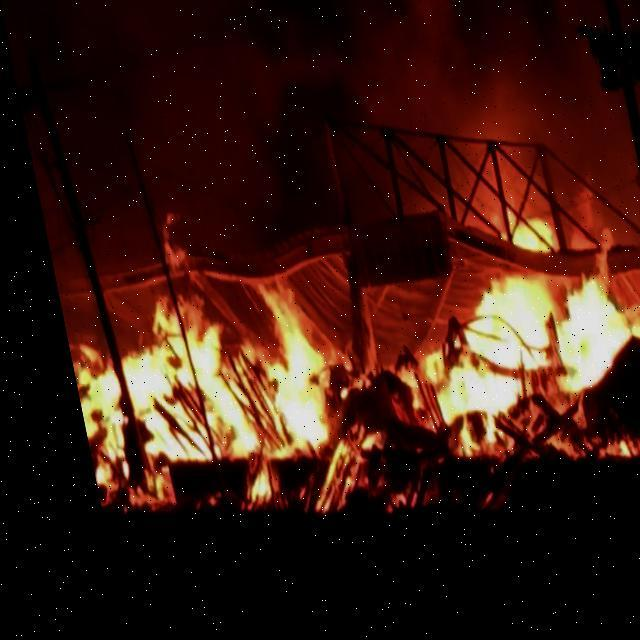Fire: (47, 286, 340, 503), (366, 272, 639, 423), (497, 214, 547, 254)
